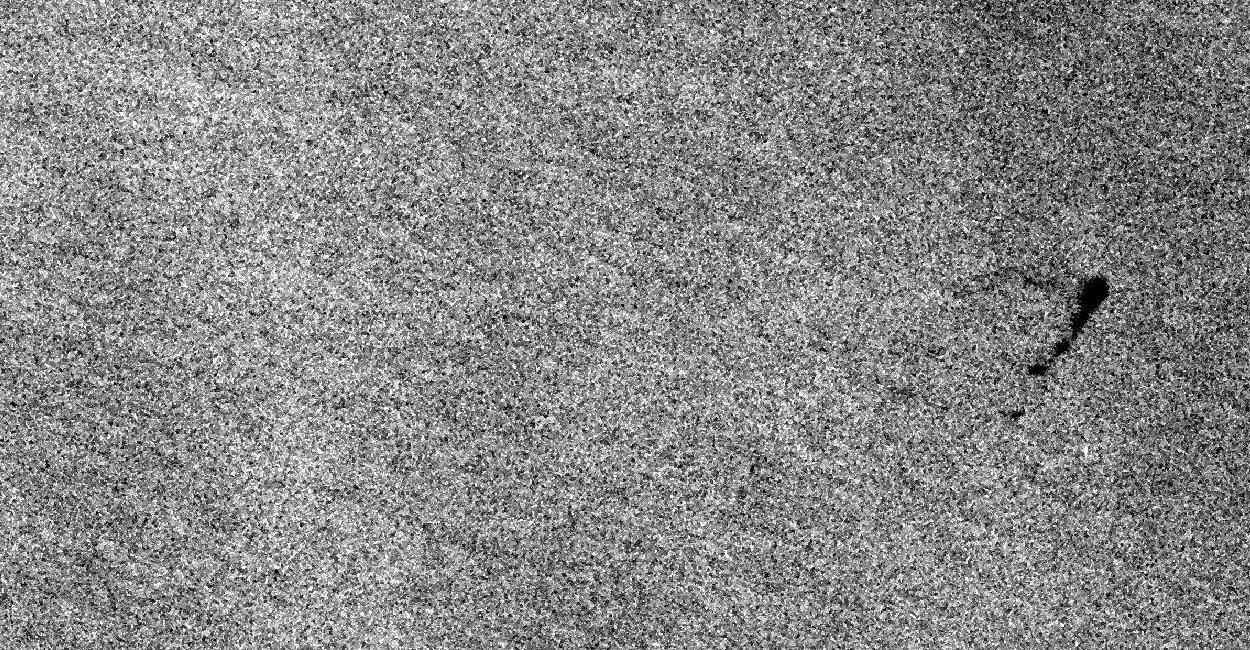Oil Spill: (1026, 272, 1110, 378), (1008, 409, 1026, 420)
